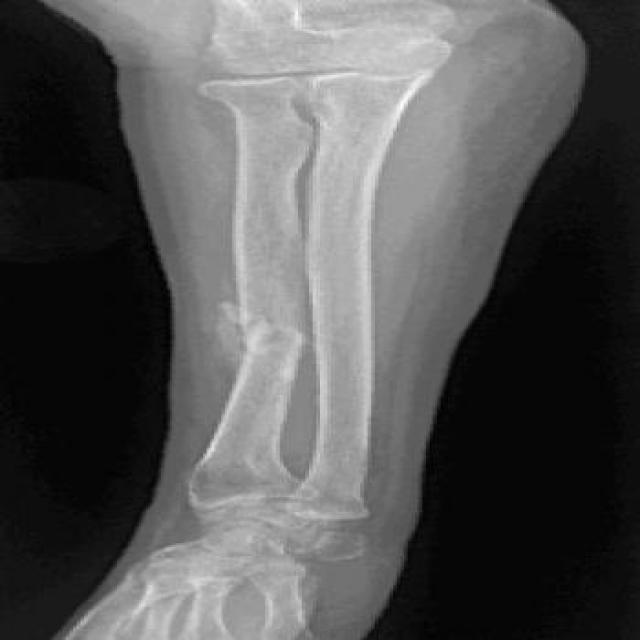Fracture: (192, 295, 315, 354)
